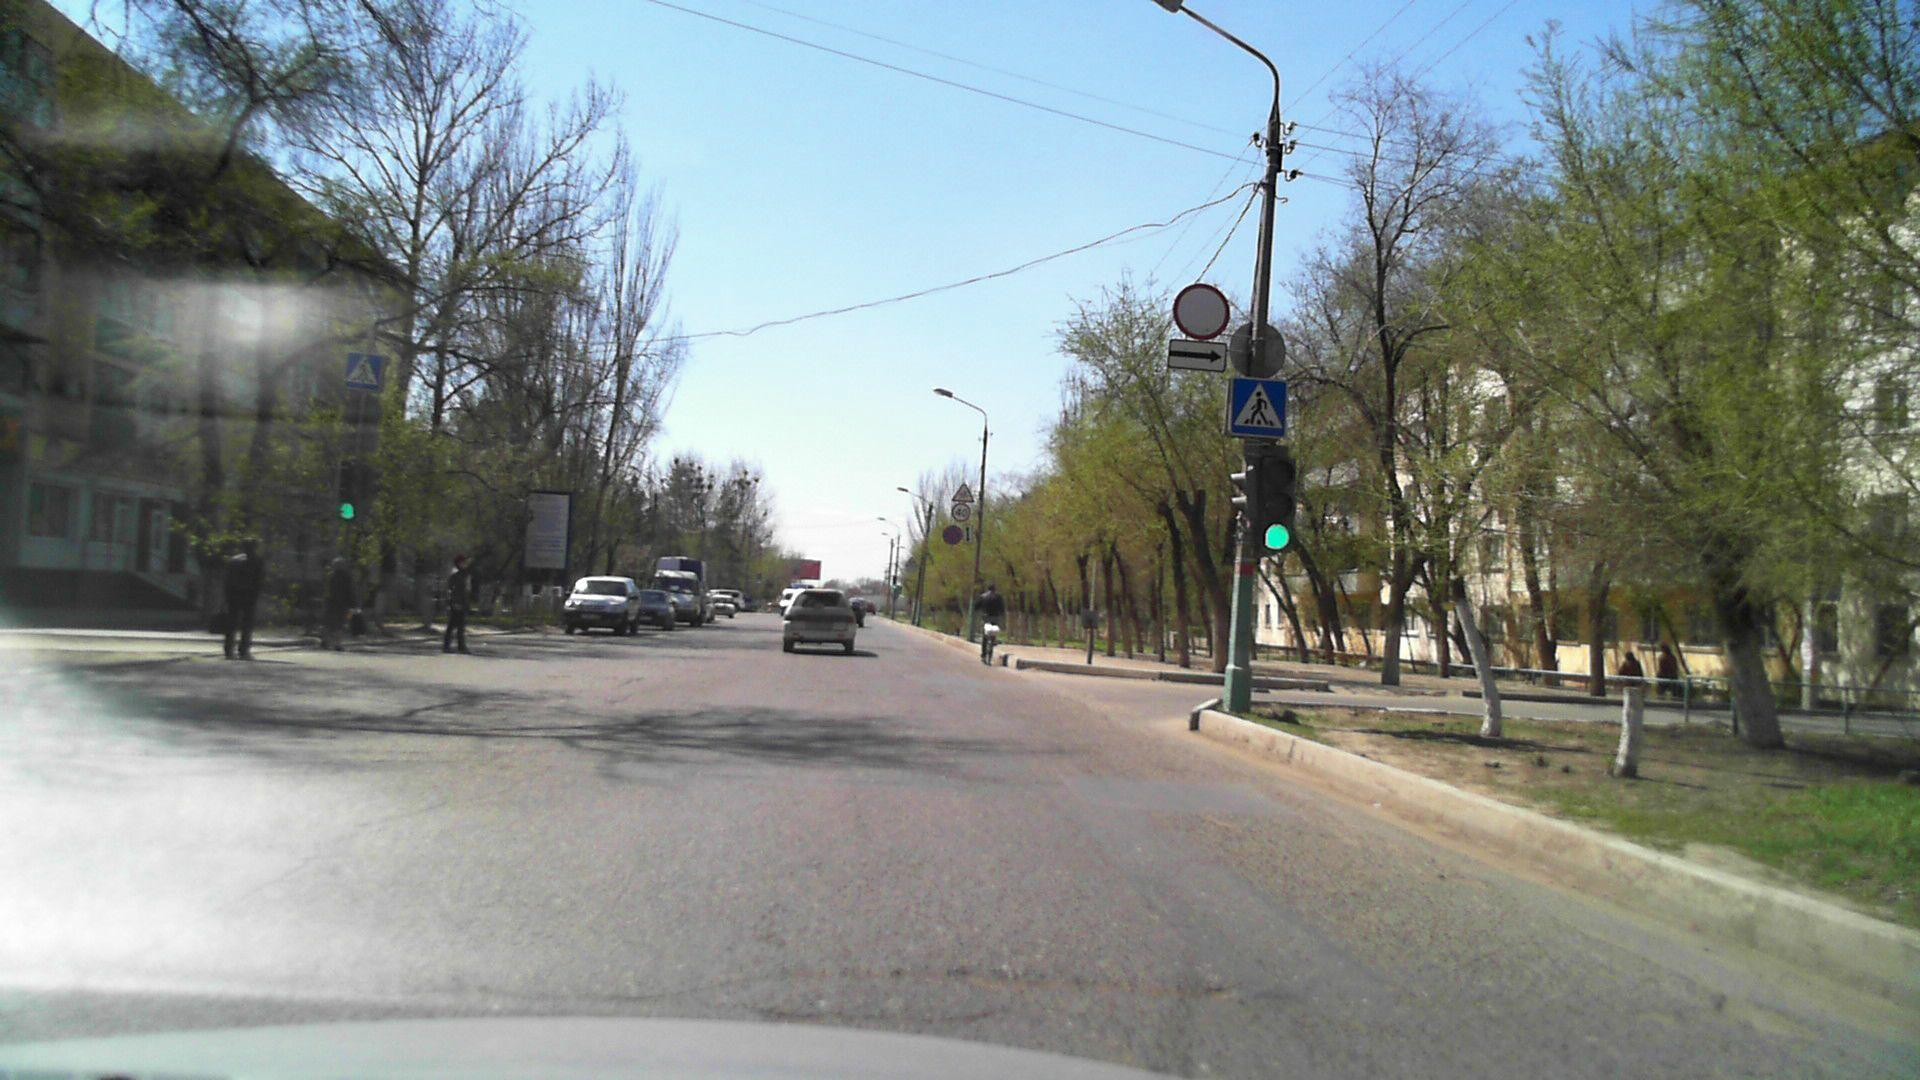1_23: (951, 483, 975, 502)
3_2: (1172, 284, 1230, 339)
3_24: (952, 504, 971, 521)
3_27: (940, 525, 963, 546)
5_19_1: (1229, 376, 1288, 436)
5_19_2: (345, 351, 386, 392)
8_2_4: (964, 524, 972, 543)
8_3_1: (1164, 338, 1228, 376)
